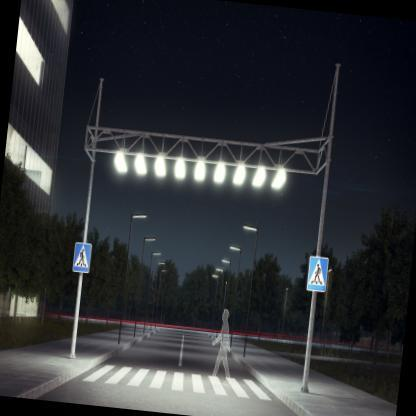road_sign: (305, 255, 331, 292), (68, 243, 91, 273)
